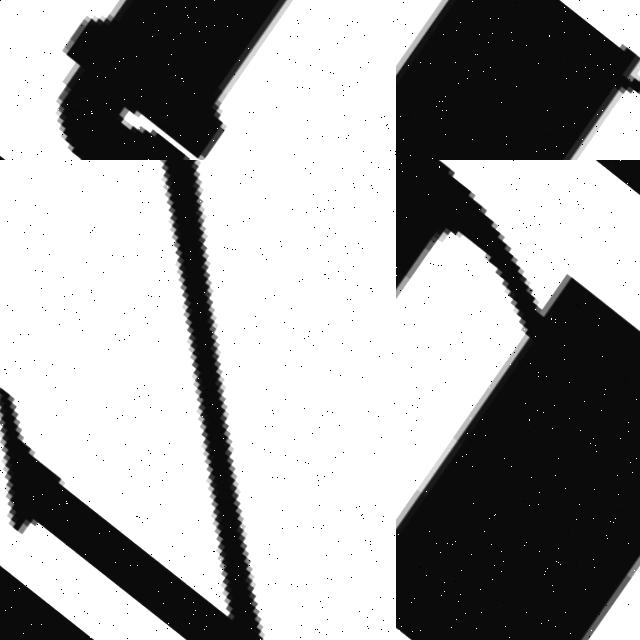7: (0, 160, 396, 640)
B: (396, 0, 640, 160)
F: (44, 0, 272, 160)
U: (396, 160, 640, 640)
